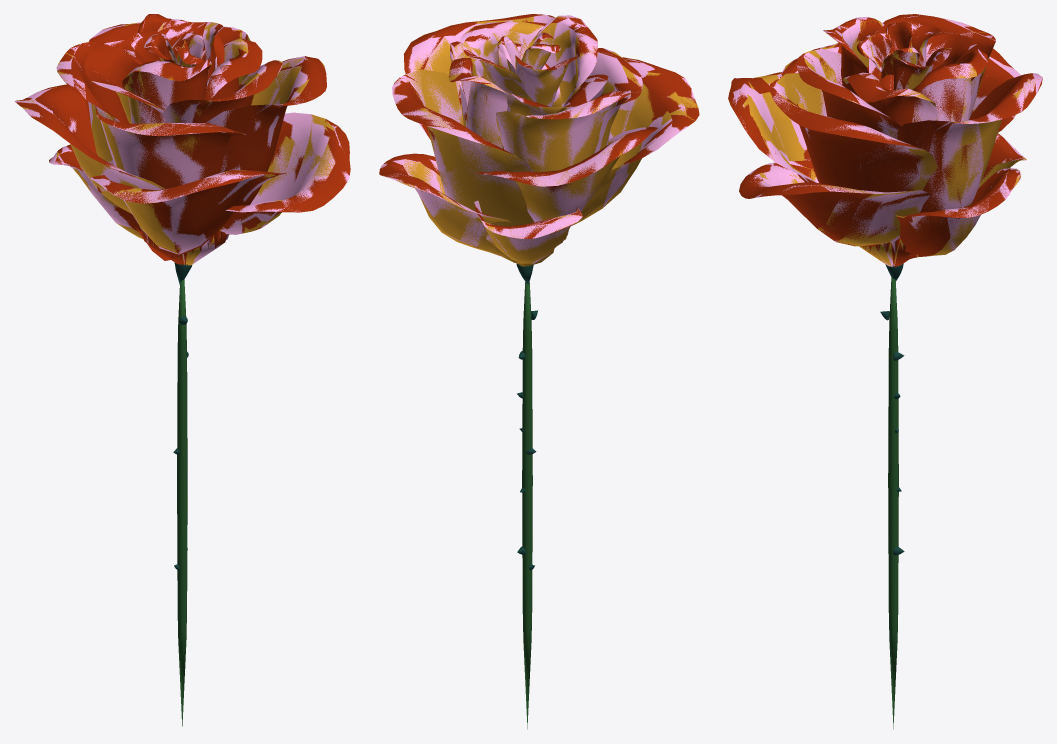
Rendered from Roses.fbx.
3 views of the same model, side by side, from view 1: azimuth 30°, elevation 25°; view 2: azimuth 150°, elevation 25°; view 3: azimuth 270°, elevation 25° (orthographic).
Visible parts, largest first — view 1: RedRose_Head, PinkRose_Head, YellowRose_Head, PinkRose_Stem, RedRose_Stem; view 2: YellowRose_Head, PinkRose_Head, RedRose_Head, YellowRose_Stem, PinkRose_Stem, RedRose_Stem; view 3: RedRose_Head, PinkRose_Head, YellowRose_Head, YellowRose_Stem, PinkRose_Stem, RedRose_Stem.
Part boxes in pixels (<box>): RedRose_Head: <box>15,14,350,265</box>; PinkRose_Head: <box>14,19,349,264</box>; YellowRose_Head: <box>18,20,334,265</box>; PinkRose_Stem: <box>174,263,192,724</box>; RedRose_Stem: <box>173,263,191,726</box>; YellowRose_Head: <box>396,16,698,266</box>; PinkRose_Head: <box>380,15,694,263</box>; RedRose_Head: <box>379,14,699,247</box>; YellowRose_Stem: <box>516,263,537,727</box>; PinkRose_Stem: <box>520,265,537,728</box>; RedRose_Stem: <box>518,265,536,720</box>; RedRose_Head: <box>728,14,1042,266</box>; PinkRose_Head: <box>732,15,1042,266</box>; YellowRose_Head: <box>728,18,1040,266</box>; YellowRose_Stem: <box>881,263,904,721</box>; PinkRose_Stem: <box>880,264,902,728</box>; RedRose_Stem: <box>880,265,903,729</box>.
Bounding box in the file's own units: 0.2557 × 0.66 × 0.2704.
